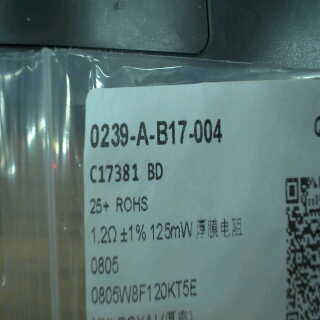1.2R: (88, 225, 121, 278)
